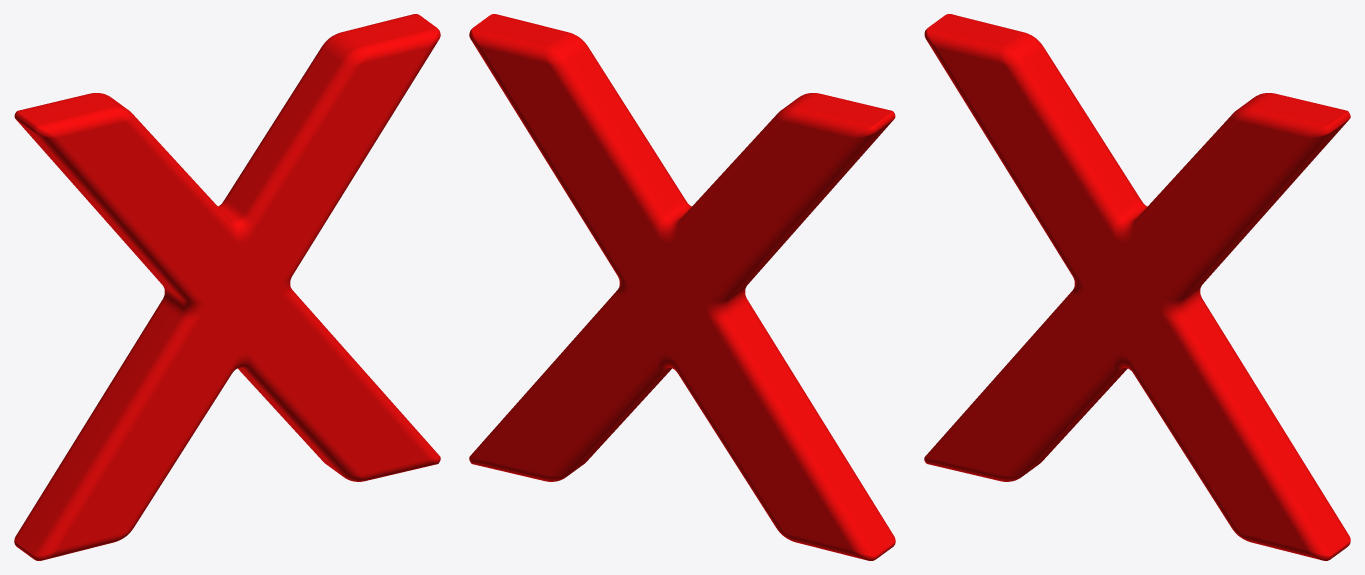
File: close.glb
3 renders of one model, left to right at view 1: azimuth 30°, elevation 25°; view 2: azimuth 150°, elevation 25°; view 3: azimuth 330°, elevation 25°, orthographic.
Visible parts, largest first — view 1: node_id30; view 2: node_id30; view 3: node_id30.
Boxes of the visible parts, <box> form: node_id30: <box>14,14,440,560</box>; node_id30: <box>469,14,895,560</box>; node_id30: <box>924,14,1350,560</box>.
Bounding box in the file's own units: 0.5007 × 0.512 × 0.066.
Materials: 1 (1 with a texture image).
